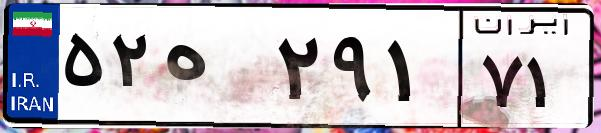1: (385, 28, 445, 110), (525, 38, 570, 115)
2: (270, 28, 330, 110), (110, 28, 158, 98)
5: (57, 26, 110, 100)
7: (475, 38, 525, 113)
9: (330, 28, 385, 110)
ه: (158, 20, 270, 120)
